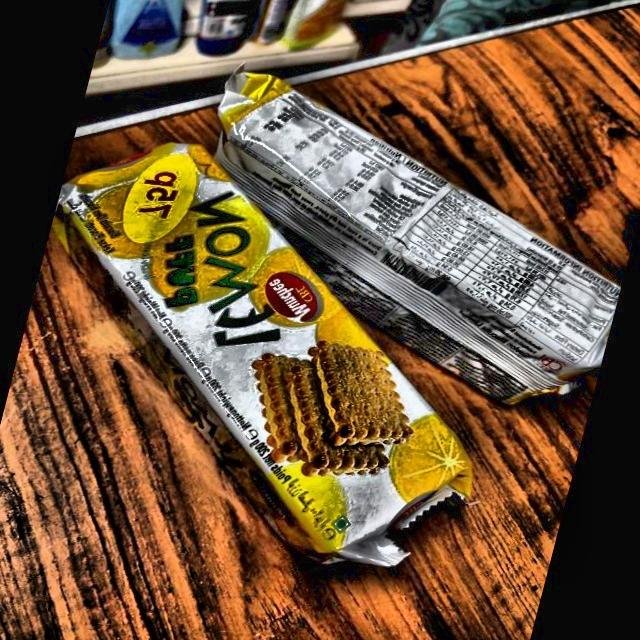lemon puff: (51, 139, 472, 569), (216, 63, 611, 407)
